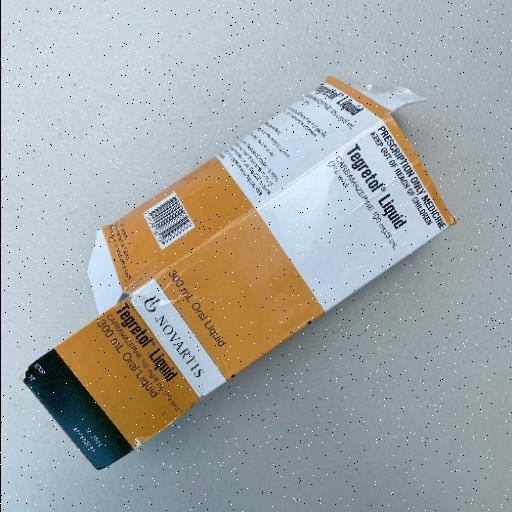Cardboard: (19, 74, 457, 472)
